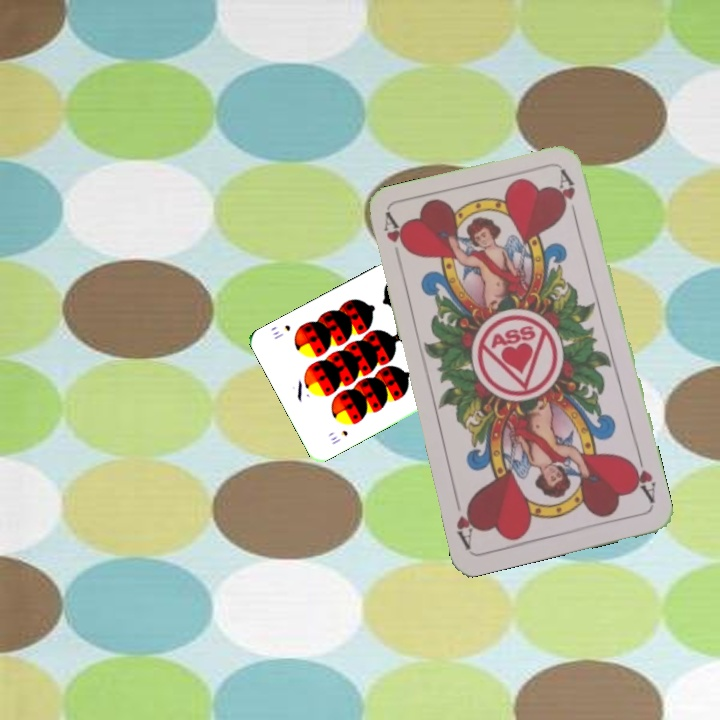HA: (624, 449, 659, 506), (380, 211, 411, 269)
S10: (327, 426, 350, 447)
